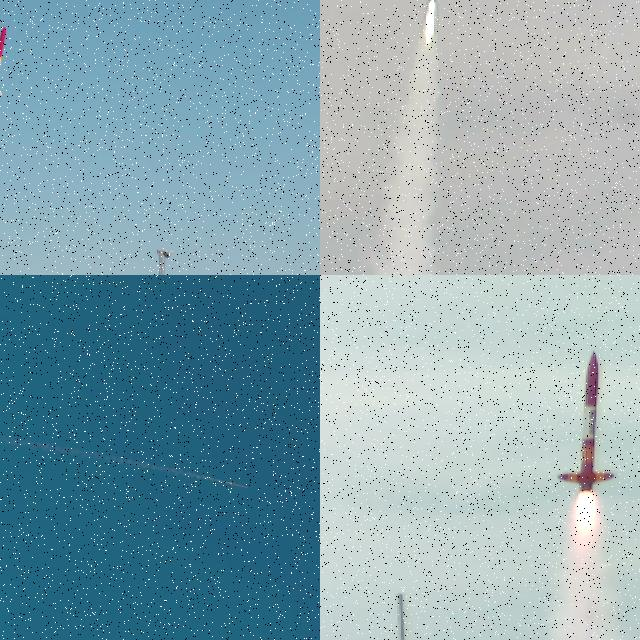Rocket: (555, 348, 615, 492), (0, 25, 7, 96), (229, 481, 249, 489)
